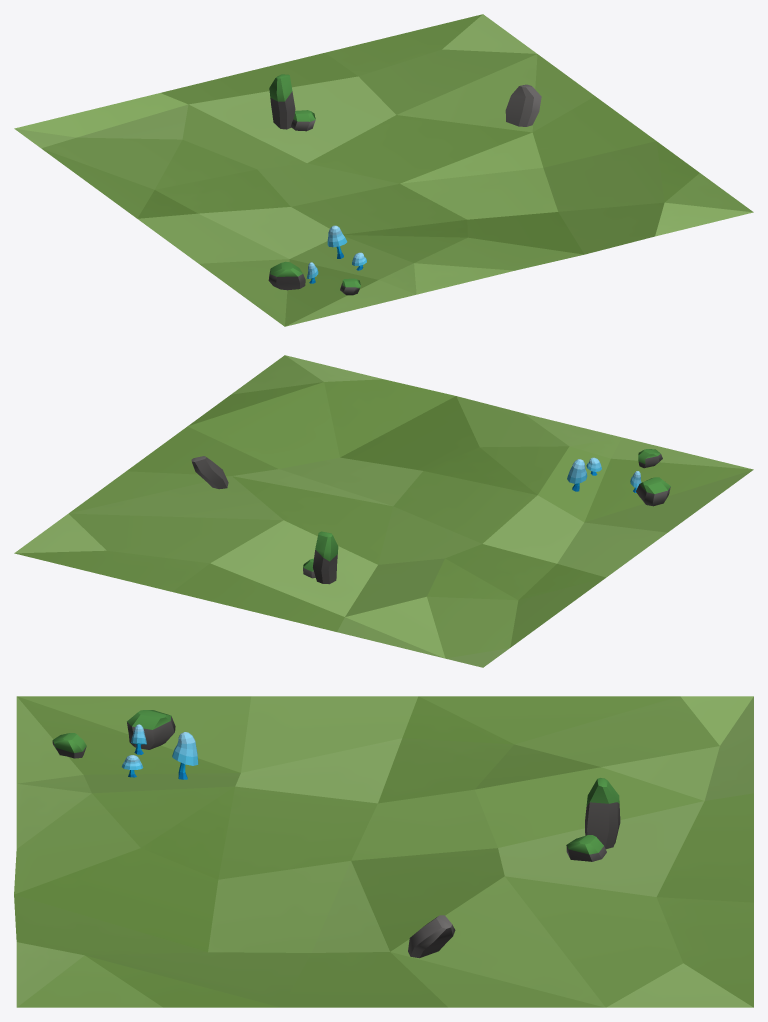
Rendered from Tiles_06.fbx.
The picture shows the model from 3 angles, top to bottom: view 1: azimuth 30°, elevation 25°; view 2: azimuth 150°, elevation 25°; view 3: azimuth 270°, elevation 25°; orthographic projection. The views are drawn at different scales.
Parts seen in each view (by area): view 1: Tiles_06, polySurface12, polySurface22, polySurface10; view 2: Tiles_06, polySurface22, polySurface12, polySurface10; view 3: Tiles_06, polySurface22, polySurface10, polySurface12, polySurface20, polySurface14, pSphere1.
Boxes of the visible parts, box(x1,y1,x2,y2) form: Tiles_06: box(14, 14, 753, 326); polySurface12: box(505, 84, 541, 126); polySurface22: box(269, 74, 295, 129); polySurface10: box(268, 261, 305, 290); Tiles_06: box(14, 355, 753, 667); polySurface22: box(313, 531, 338, 584); polySurface12: box(191, 456, 228, 489); polySurface10: box(636, 477, 670, 506); Tiles_06: box(14, 696, 753, 1007); polySurface22: box(585, 778, 620, 849); polySurface10: box(127, 710, 175, 749); polySurface12: box(408, 915, 455, 958); polySurface20: box(566, 835, 606, 861); polySurface14: box(52, 733, 86, 758); pSphere1: box(172, 732, 198, 765).
Size of the model in its own units: 722 by 93 by 725.
